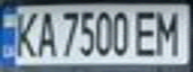0: (93, 8, 115, 57), (112, 7, 133, 57)
5: (75, 7, 96, 57)
7: (57, 7, 78, 57)
A: (33, 7, 57, 58)
E: (130, 7, 163, 57)
K: (9, 8, 42, 59)
M: (151, 7, 187, 57)
